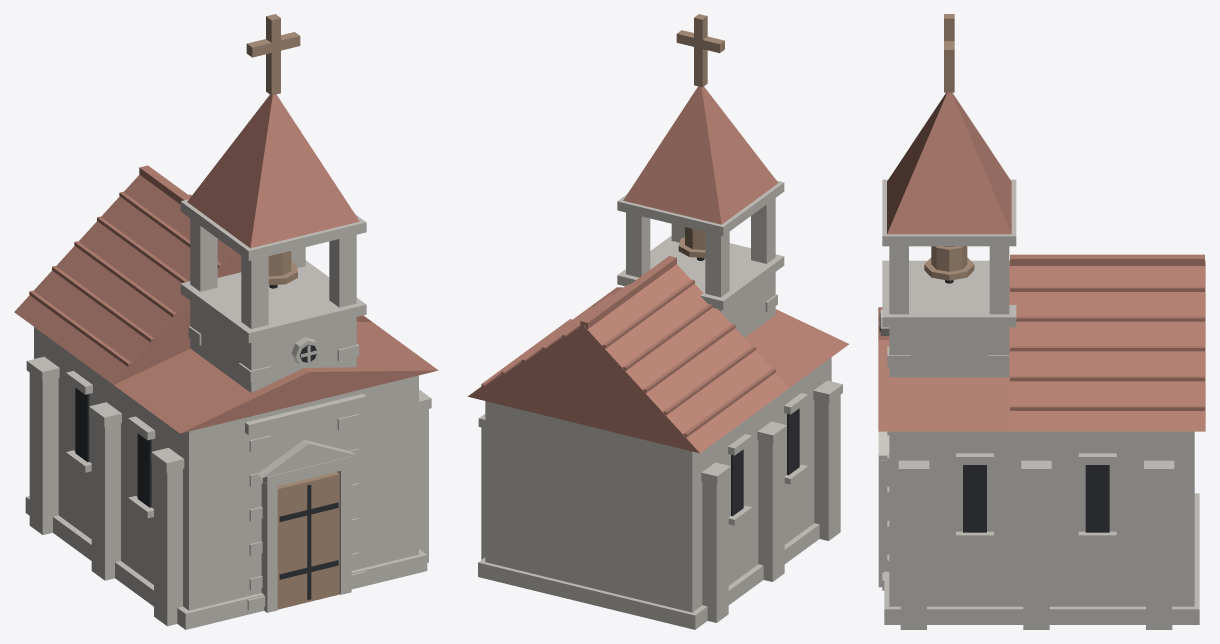
File: church.glb
3 views of the same model, side by side, from view 1: azimuth 30°, elevation 25°; view 2: azimuth 150°, elevation 25°; view 3: azimuth 270°, elevation 25° (orthographic). The views are drawn at different scales.
Visible parts, largest first — view 1: church_stone, church_roof, church_wood, church_dark; view 2: church_stone, church_roof, church_wood, church_dark; view 3: church_stone, church_roof, church_dark, church_wood.
Boxes of the visible parts, x1,y1,x2,y2 form: church_stone: (25,199,431,629); church_roof: (14,94,438,433); church_wood: (246,14,339,609); church_dark: (75,284,338,599); church_stone: (478,180,842,629); church_roof: (468,86,849,453); church_wood: (676,14,724,257); church_dark: (697,257,799,516); church_stone: (878,179,1199,629); church_roof: (878,92,1205,431); church_dark: (879,280,1109,532); church_wood: (924,14,974,280).
Size of the model in its own units: 1.84 by 3.72 by 2.
